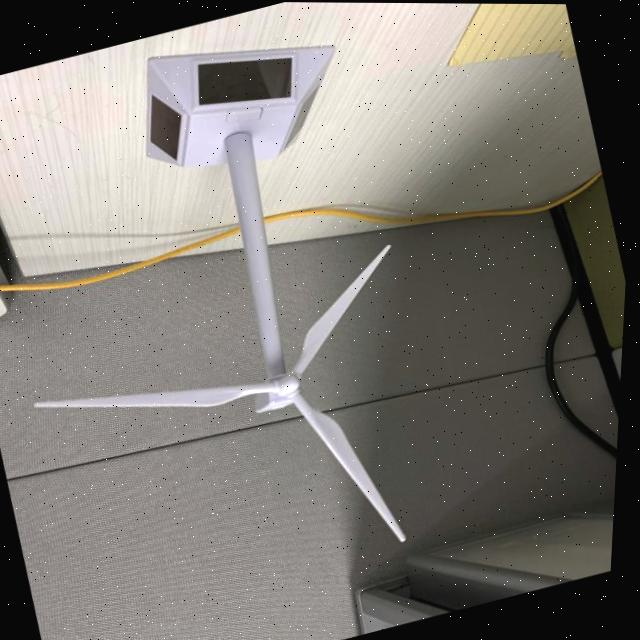solid-blade: (297, 391, 411, 539), (295, 242, 392, 375), (38, 378, 282, 406)
